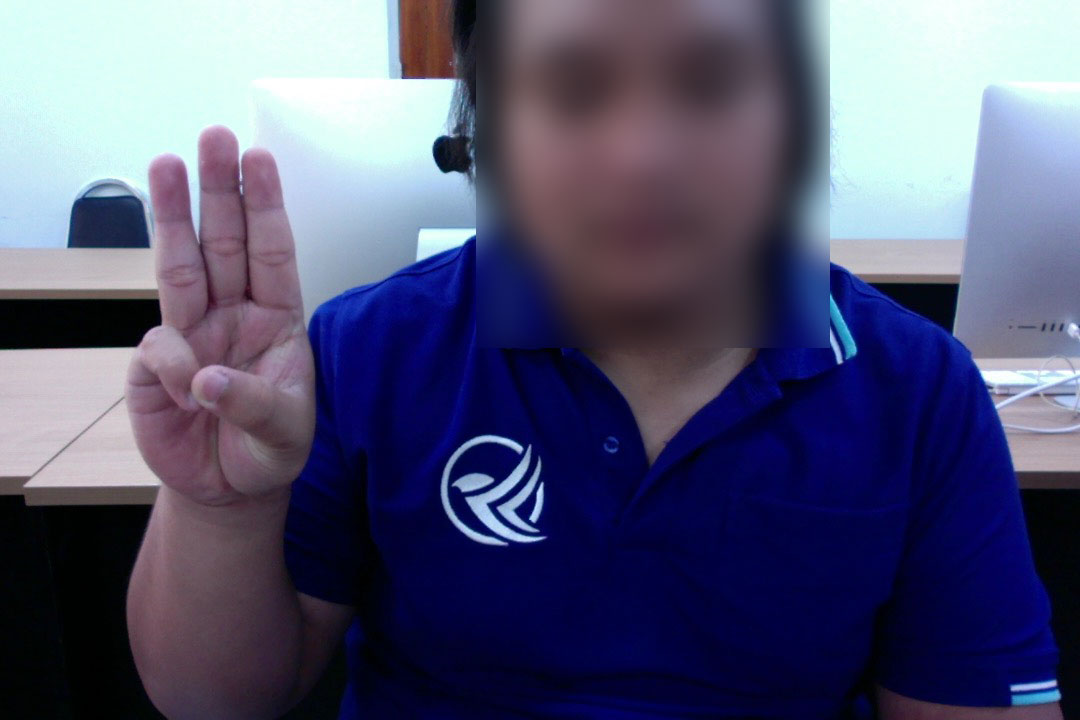wor: (111, 119, 344, 503)
